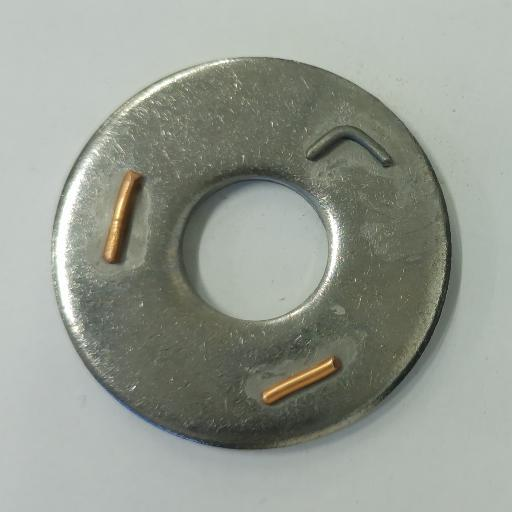excess_material: (262, 355, 342, 405), (306, 125, 393, 168), (103, 170, 142, 264)
